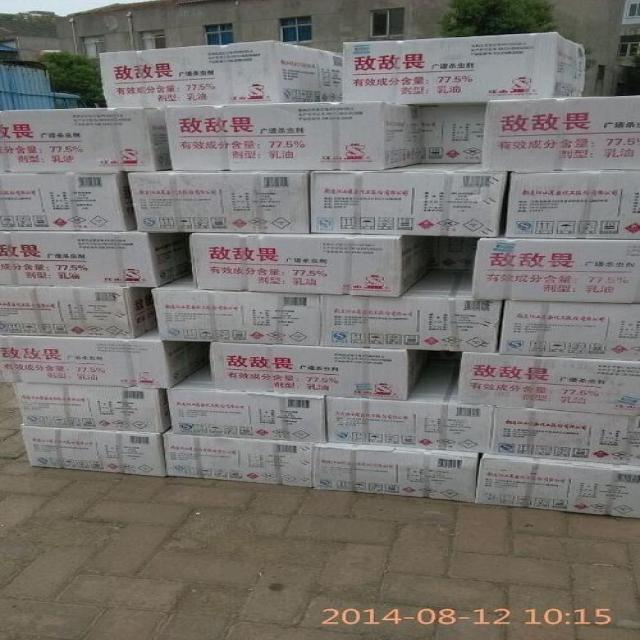box: (164, 100, 422, 172), (340, 33, 585, 105), (99, 40, 342, 109), (317, 269, 502, 353), (191, 234, 433, 298), (325, 365, 495, 455), (311, 163, 508, 239), (165, 360, 326, 445), (211, 342, 429, 401), (0, 328, 212, 388), (151, 272, 321, 345), (129, 168, 311, 234), (460, 351, 640, 416), (483, 96, 640, 170), (0, 229, 193, 288), (0, 107, 172, 173), (471, 237, 640, 304), (312, 442, 484, 505), (475, 455, 639, 518), (503, 169, 639, 240), (163, 426, 314, 487), (489, 407, 639, 466), (0, 283, 159, 338), (0, 171, 137, 231), (500, 301, 639, 360), (13, 383, 173, 432), (20, 426, 166, 476), (420, 104, 488, 163), (430, 238, 479, 270)
